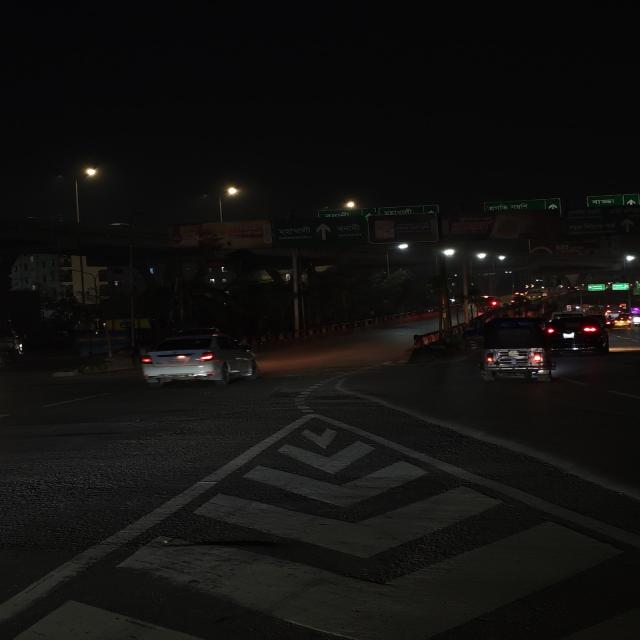car: (133, 330, 264, 390), (546, 312, 610, 352)
cng: (475, 316, 560, 384)
